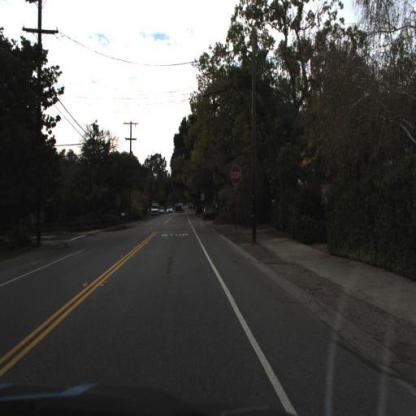car: (202, 196, 224, 222), (146, 204, 161, 220), (174, 200, 186, 218), (167, 207, 174, 215)
